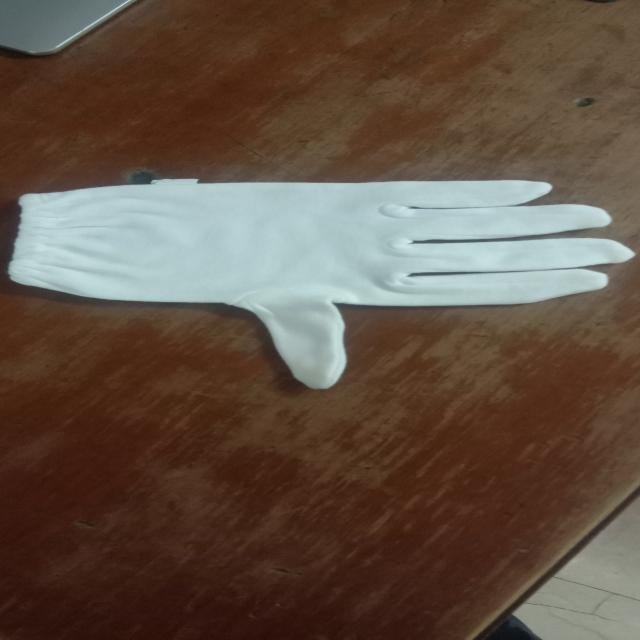glove_hand: (5, 166, 636, 394)
